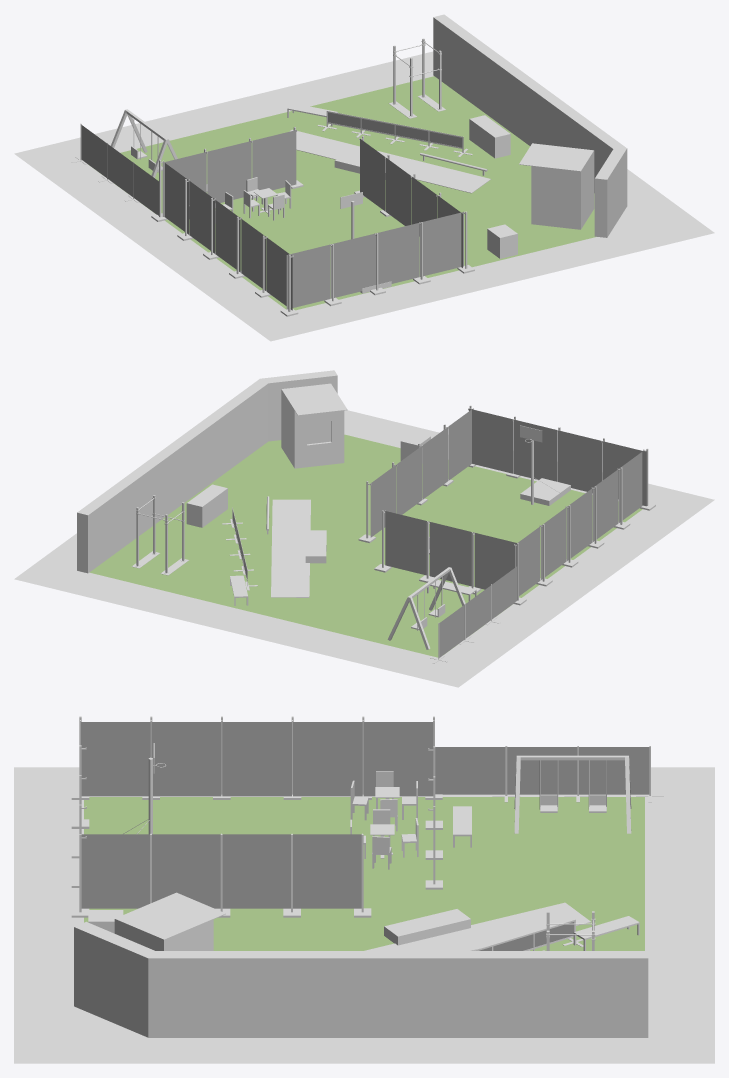
The model's file is playground.glb.
The picture shows the model from 3 angles, top to bottom: view 1: azimuth 30°, elevation 25°; view 2: azimuth 150°, elevation 25°; view 3: azimuth 270°, elevation 25°; orthographic projection. The views are drawn at different scales.
Parts seen in each view (by area): view 1: Model, Group2, Group131, Group48, Group55, Group41, Group110, Group117, Group114, Group120, Group71; view 2: Model, Group2, Group48, Group55, Group41, Group36, Group71; view 3: Model, Group2, Group41, Group55, Group48, Group125, Group131, Group120, Group93.
Part boxes in pixels (x1,y1,x2,y2): Model: (14,14,714,341); Group2: (151,127,474,316); Group131: (243,177,291,220); Group48: (107,144,133,196); Group55: (81,125,106,177); Group41: (134,163,158,215); Group110: (419,130,472,156); Group117: (351,117,395,138); Group114: (385,124,429,144); Group120: (317,111,361,131); Group71: (389,41,445,118); Model: (14,370,714,687); Group2: (358,405,655,605); Group48: (465,585,490,638); Group55: (439,605,464,657); Group41: (492,566,517,619); Group36: (520,477,570,505); Group71: (132,497,188,575); Model: (14,767,714,1063); Group2: (71,716,442,917); Group41: (435,747,505,794); Group55: (579,747,649,794); Group48: (507,747,577,794); Group125: (350,771,417,831); Group131: (350,809,418,869); Group120: (533,919,583,950); Group93: (516,755,628,760).
Bounding box in the file's own units: 20000 × 3313 × 20000.
